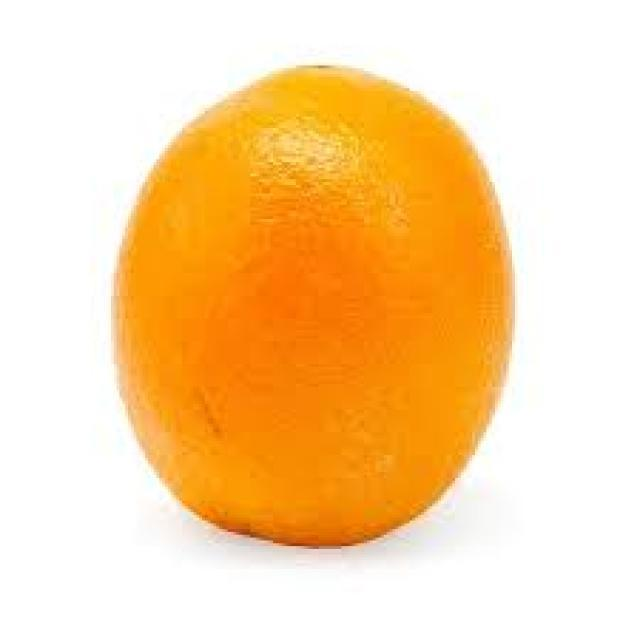non-mango: (110, 62, 516, 548)
